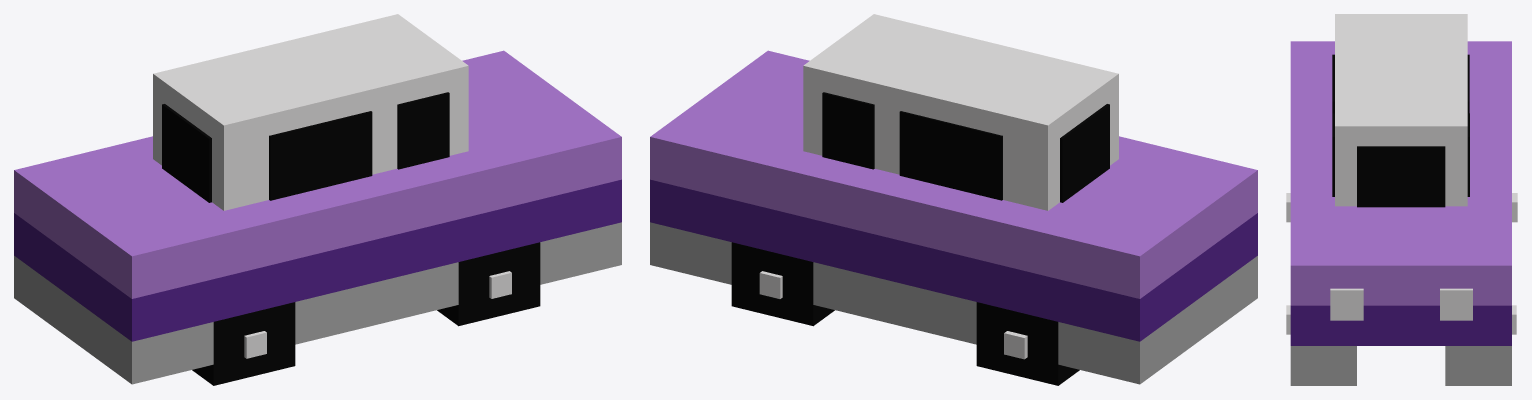
Rendered from CrossyRoadCar.fbx.
The picture shows the model from 3 angles, left to right: view 1: azimuth 30°, elevation 25°; view 2: azimuth 150°, elevation 25°; view 3: azimuth 270°, elevation 25°; orthographic projection. The views are drawn at different scales.
Visible parts, largest first — view 1: pCube2; view 2: pCube2; view 3: pCube2.
Part boxes in pixels (<box>): pCube2: <box>14,14,621,385</box>; pCube2: <box>650,14,1257,385</box>; pCube2: <box>1286,14,1517,385</box>.
Bounding box in the file's own units: 12.1 × 5.5 × 5.23.
